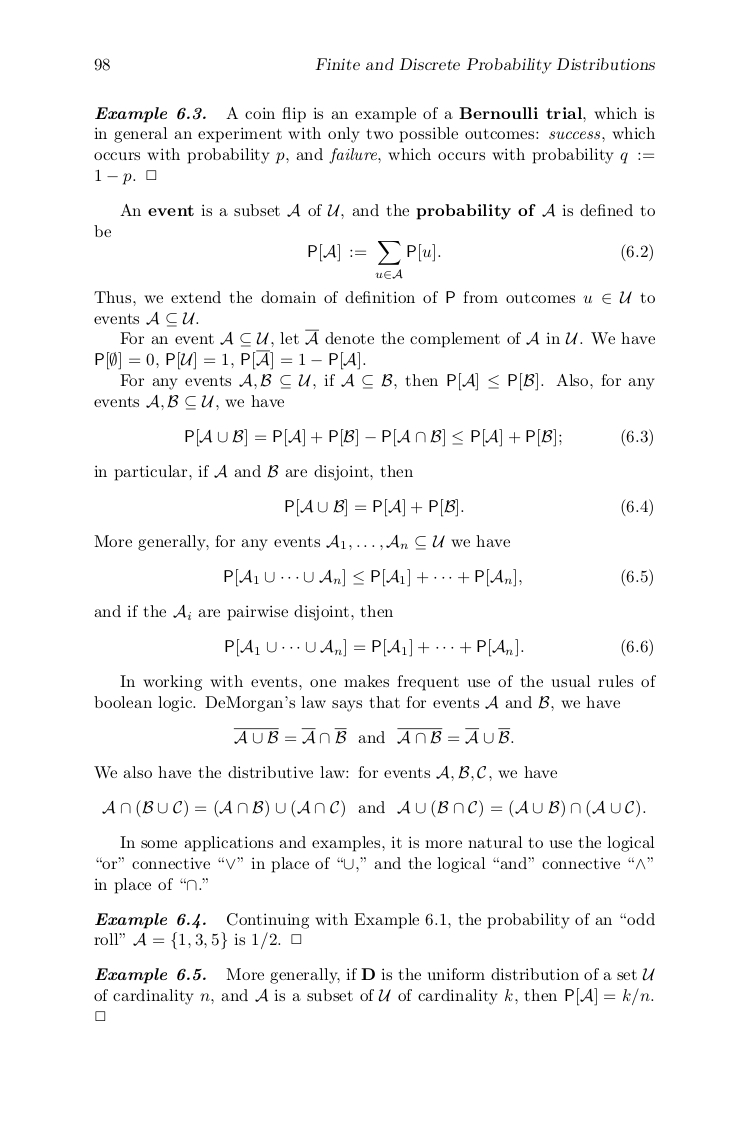formula: (308, 241, 652, 278), (102, 799, 645, 818), (185, 428, 652, 447), (224, 568, 652, 587), (225, 638, 652, 657), (285, 498, 652, 517), (95, 350, 365, 369), (233, 727, 513, 744)
